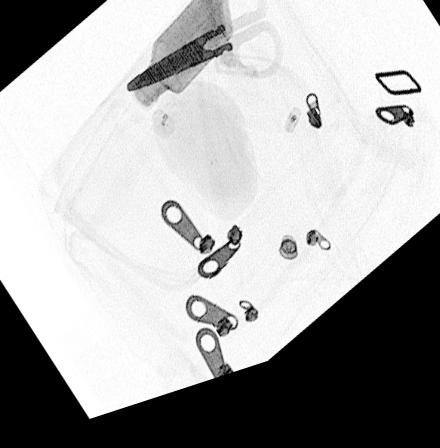Scissors: (122, 0, 288, 107)
